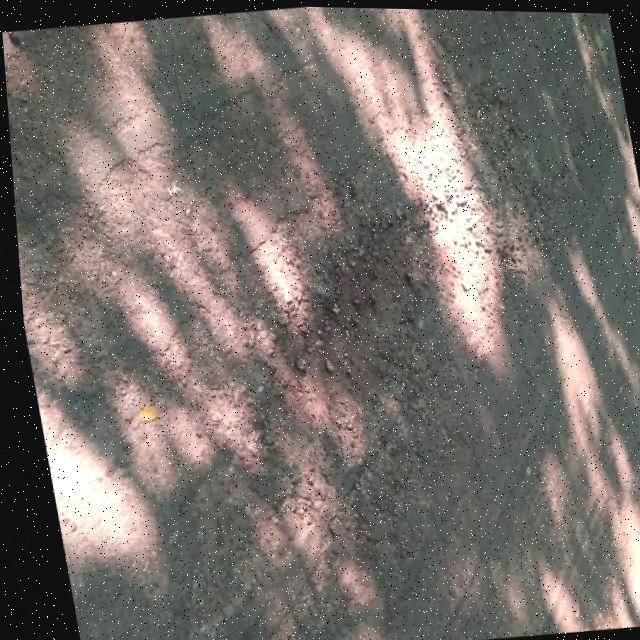pothole: (231, 190, 458, 429)
